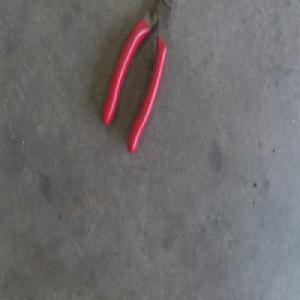Pliers: (101, 0, 174, 154)
